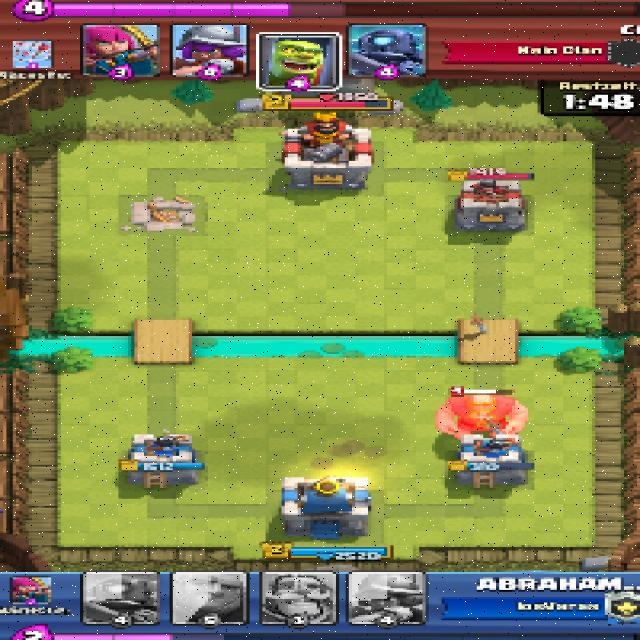Enemy-Giant: (432, 393, 529, 436)
